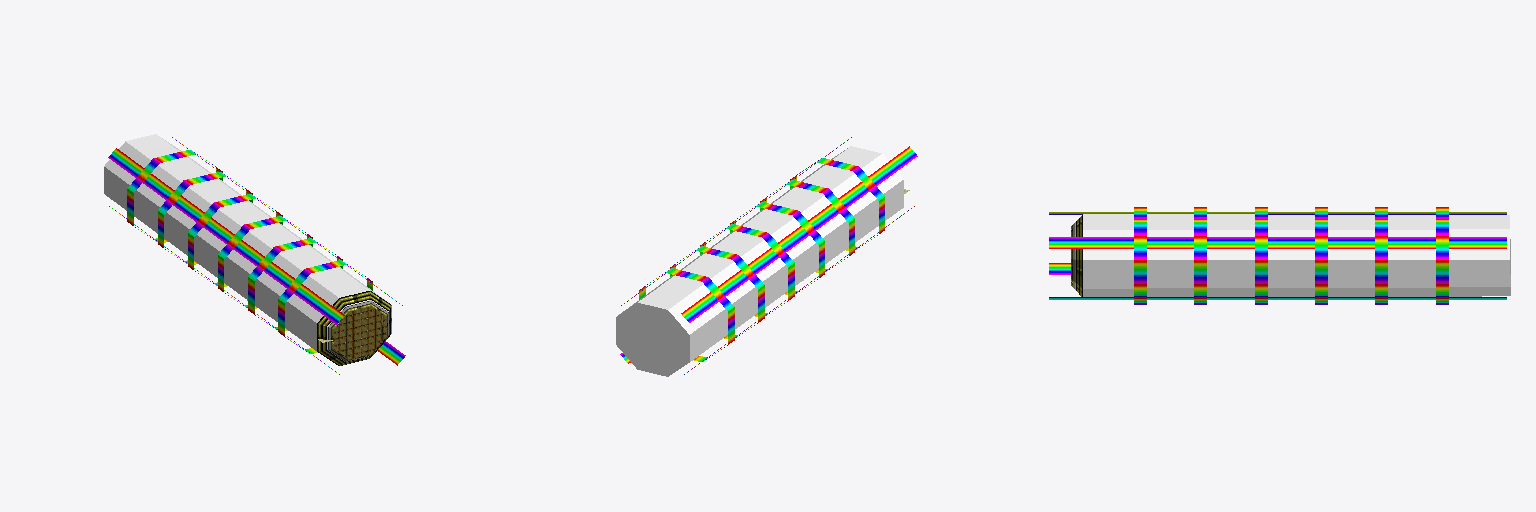
The picture shows the model from 3 angles: view 1: azimuth 30°, elevation 25°; view 2: azimuth 150°, elevation 25°; view 3: azimuth 270°, elevation 25°; orthographic projection.
Visible parts, largest first — view 1: r0; view 2: r0; view 3: r0.
Boxes of the visible parts, x1=… form: r0: x1=104, y1=134, x2=405, y2=374; r0: x1=616, y1=137, x2=917, y2=376; r0: x1=1049, y1=207, x2=1510, y2=304.
Bounding box in the file's own units: 3.85 × 3.35 × 17.31.
Materials: 23 (7 with a texture image).